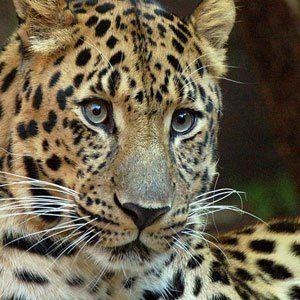amur_leopard: (3, 1, 239, 293)
